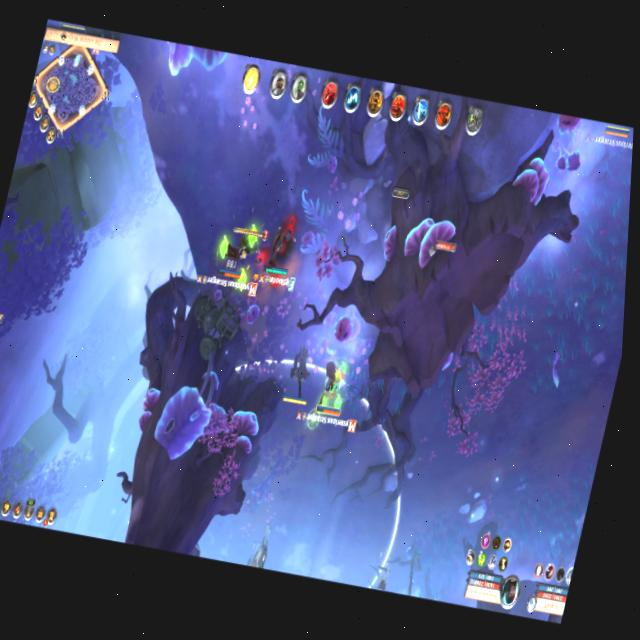ore: (365, 546, 399, 592)
red: (192, 205, 273, 297), (292, 349, 374, 439), (249, 201, 315, 296), (278, 340, 321, 411), (576, 119, 634, 159)
